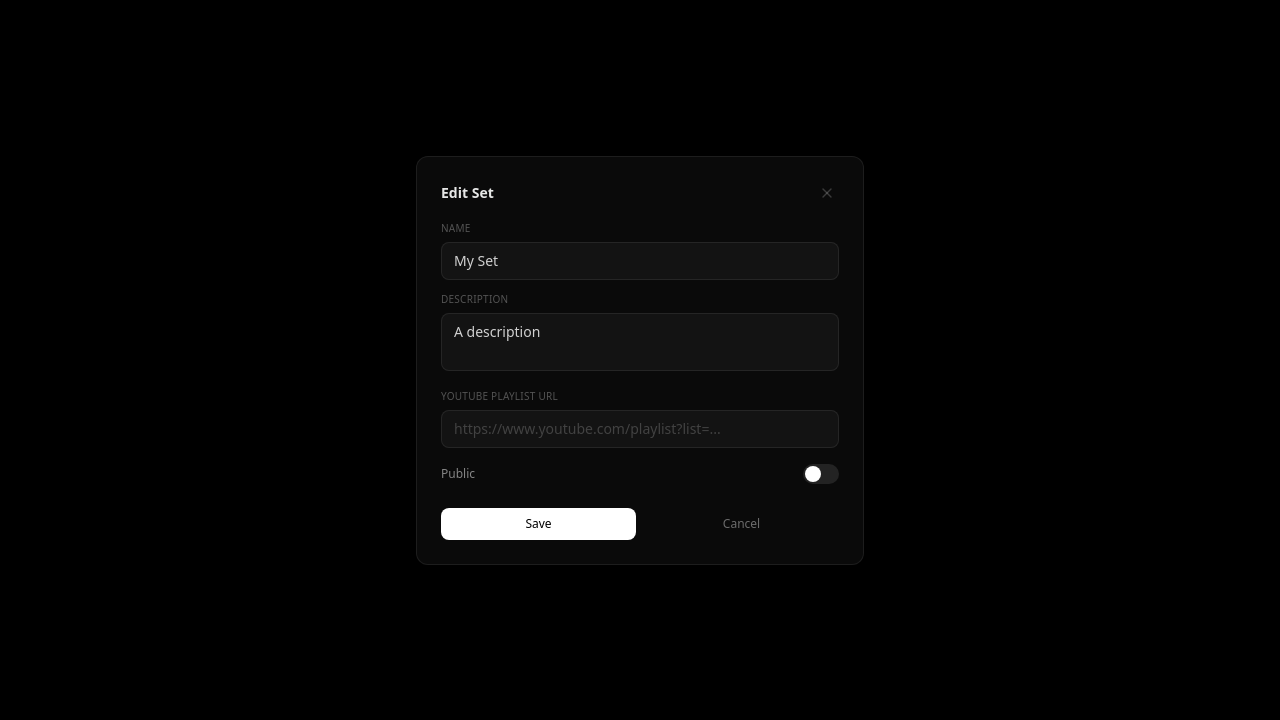
Test: SetEditModal › shows server error message on failed save
The image size is (1280, 720).
What coordinates should you click on to do the following:
click the button "Save"
I would click on:
 (538, 524)
Its box is [441,508,636,540].
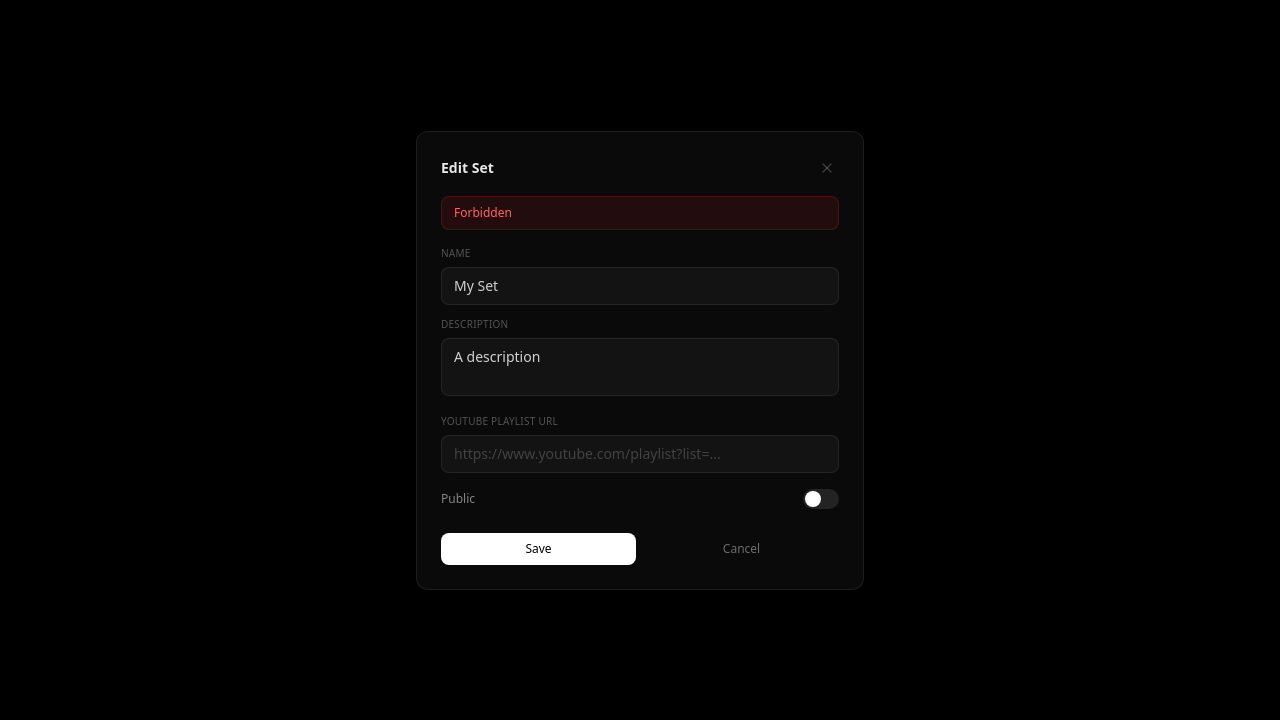
expect the text "Forbidden" is shown: met, box [441,196,839,230]
